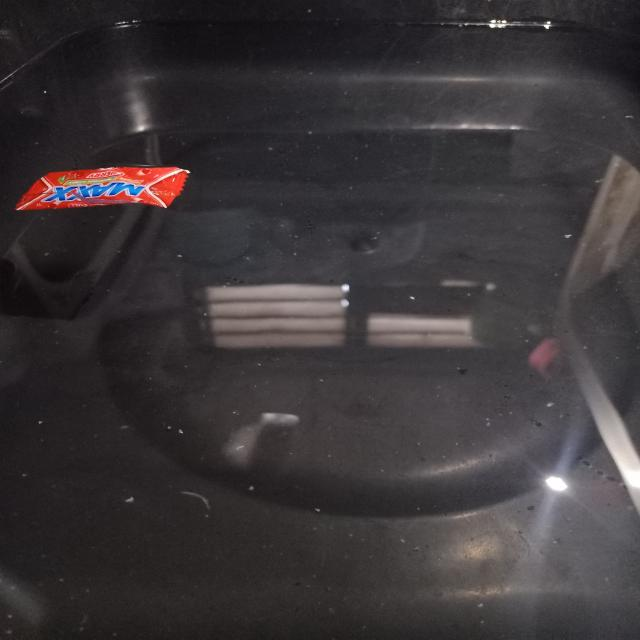Plastic Wrapper: (16, 166, 189, 211)
